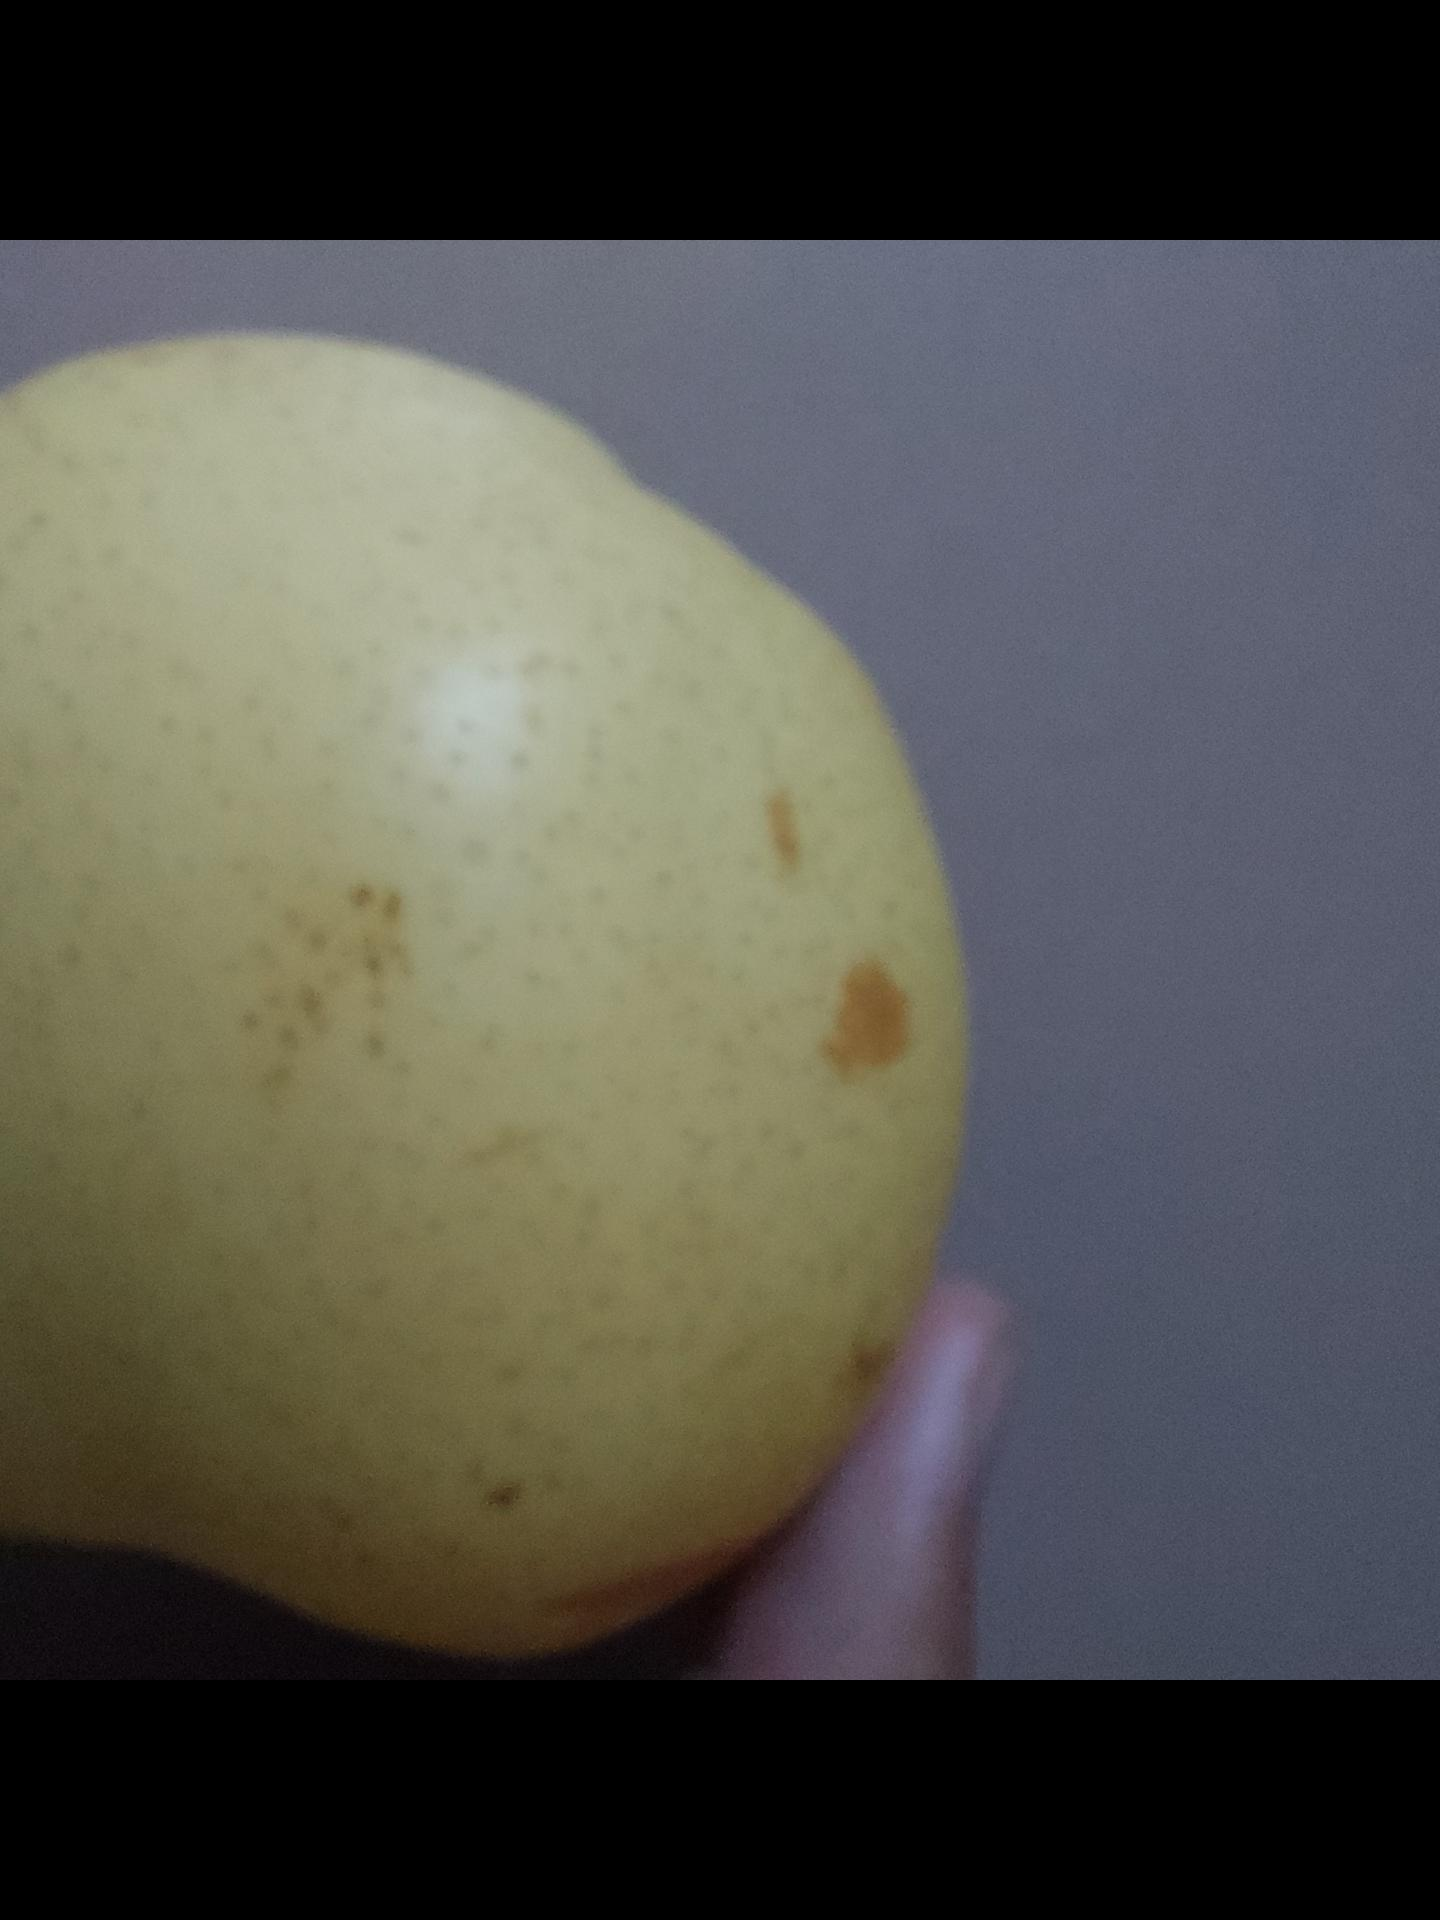Good Pear: (0, 321, 948, 1661)
